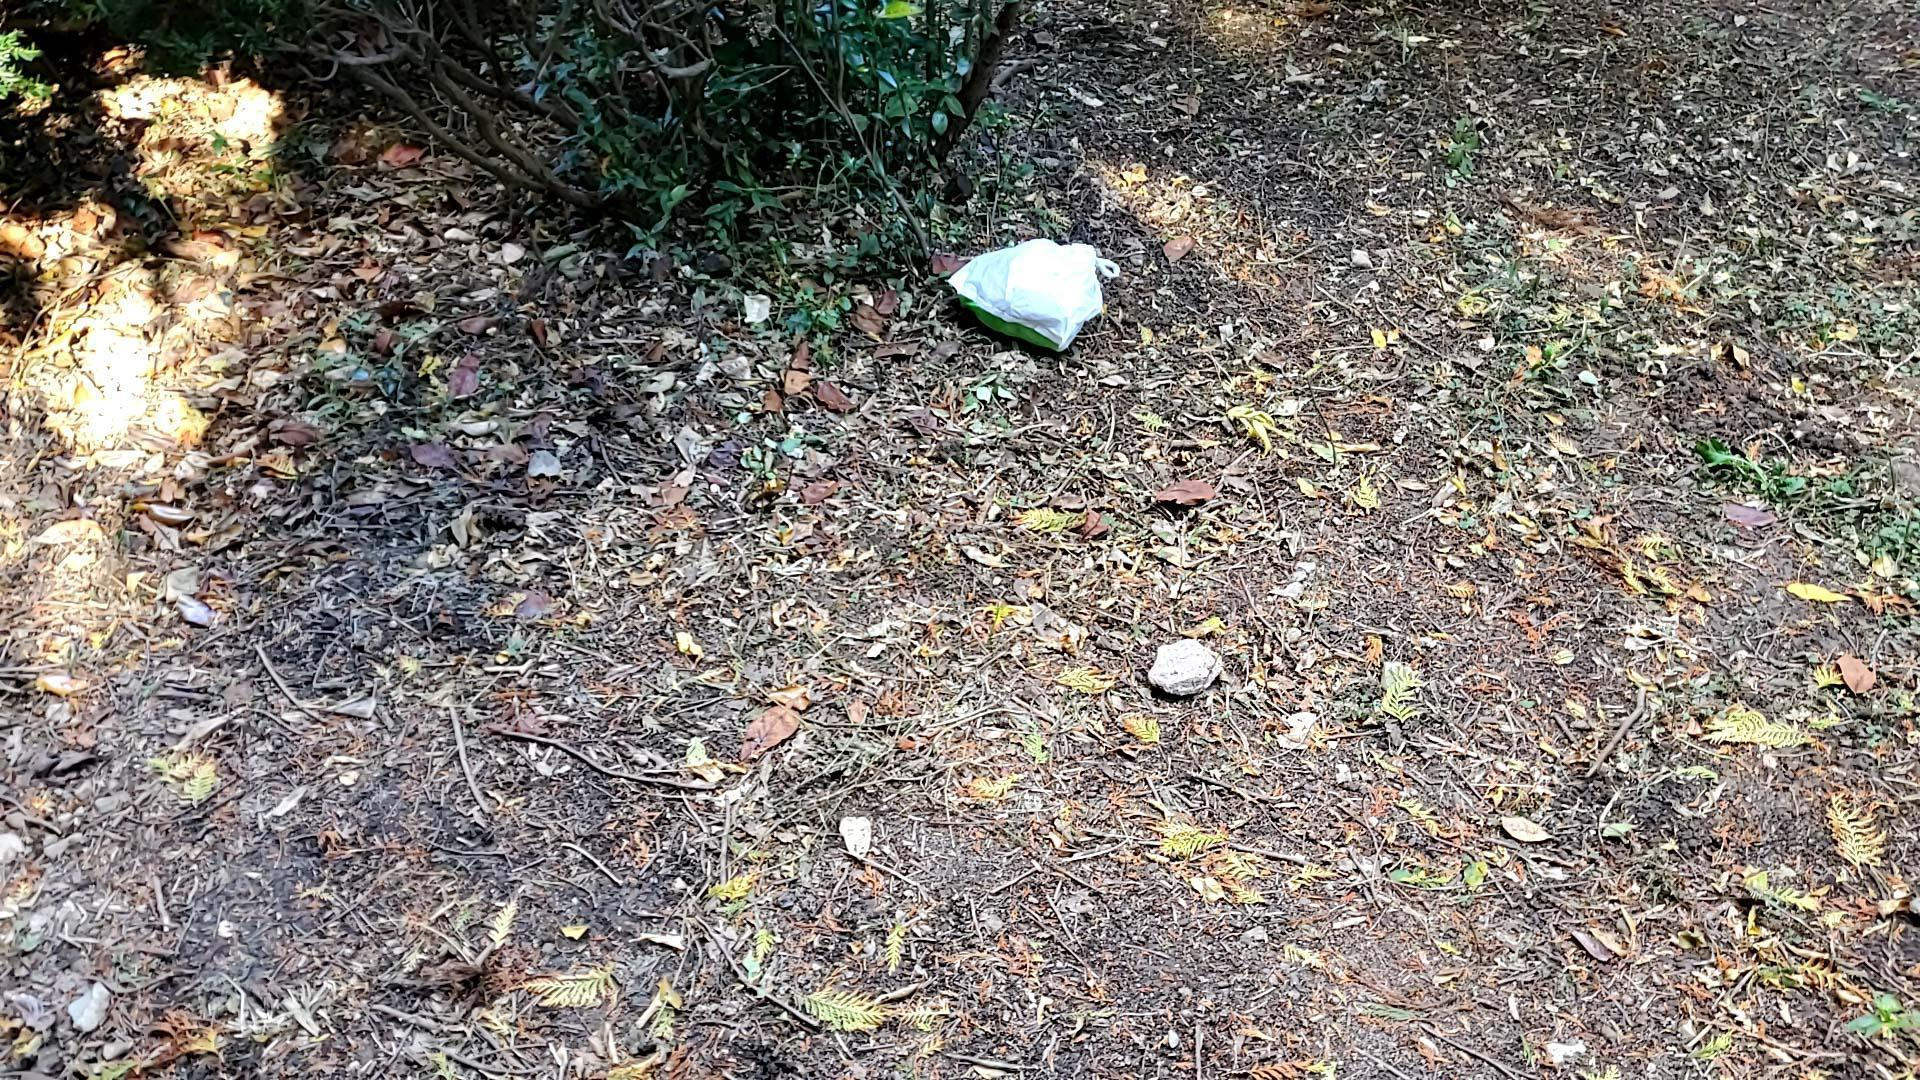white_bag: (924, 228, 1127, 364)
